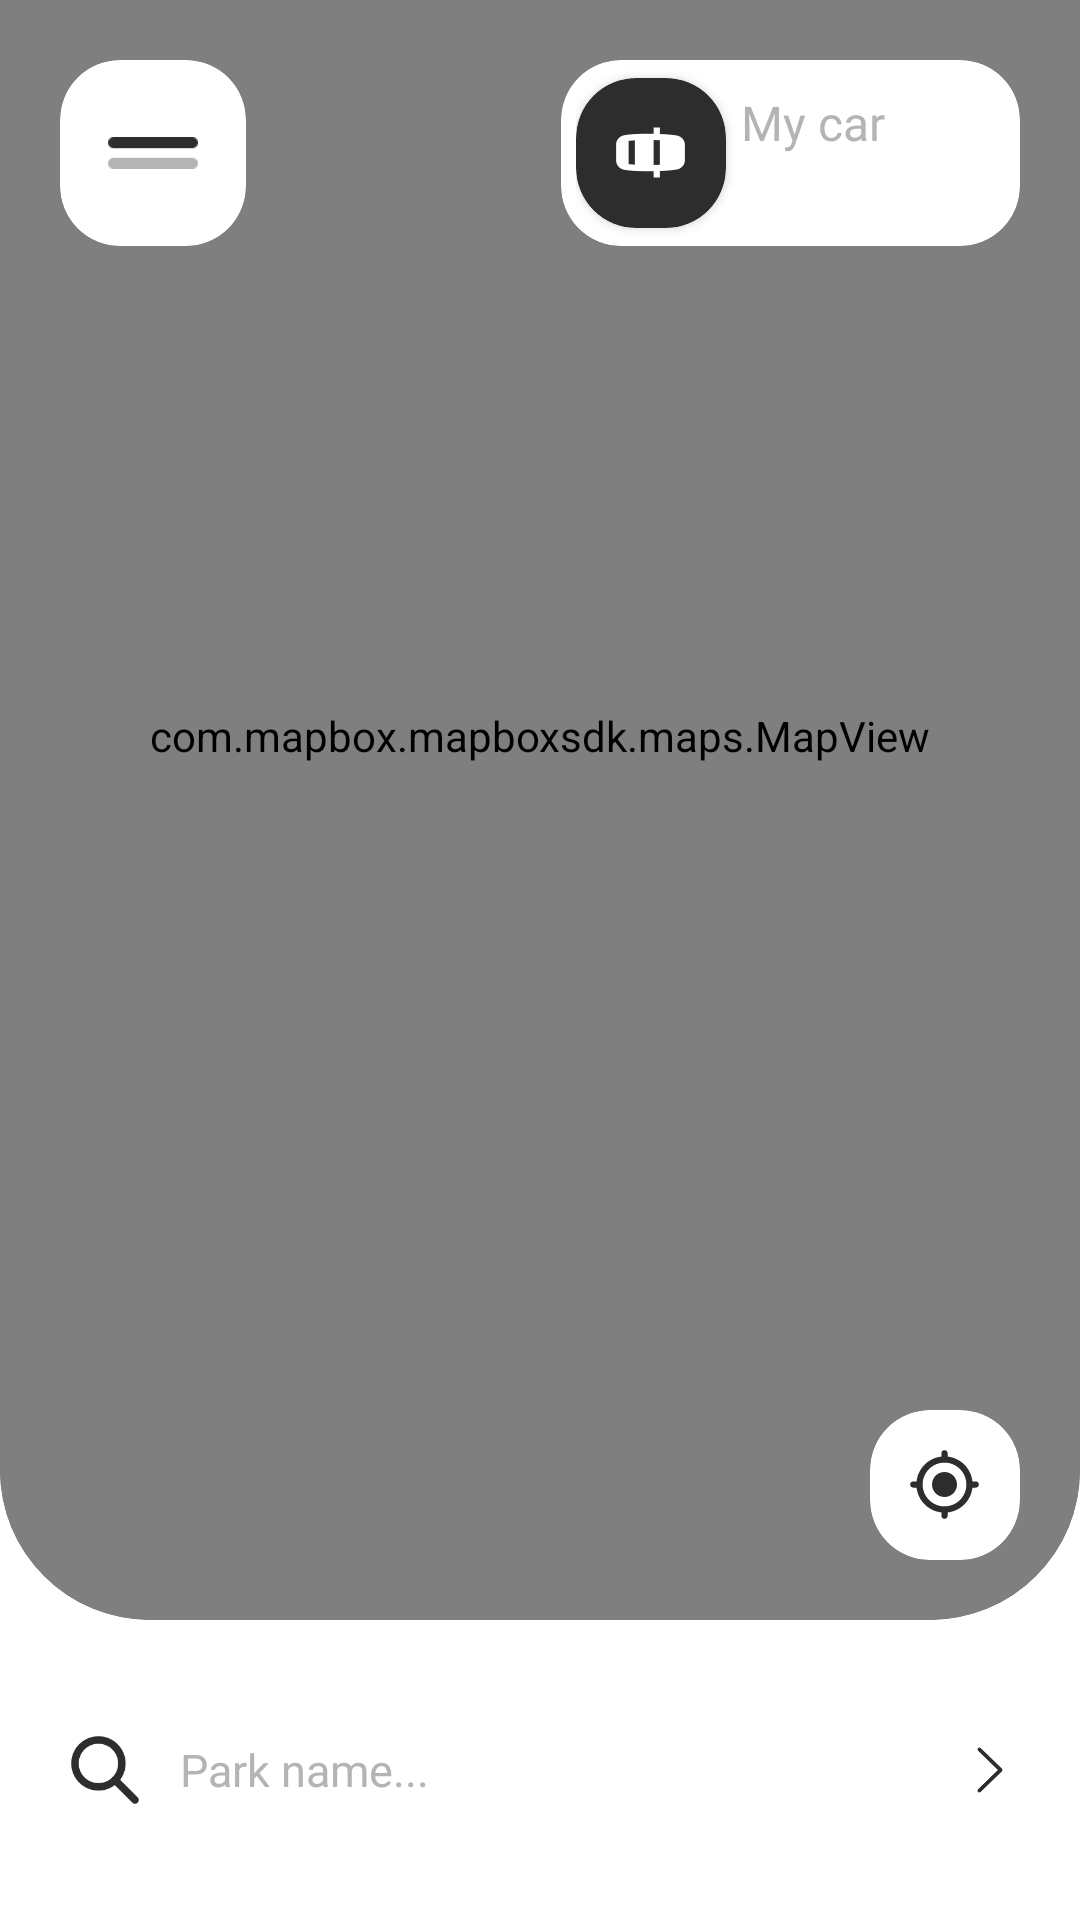

Screen size 1080 x 1920. Icon name, then its center in pixels as [x,y]:
car top view: [650,152]
location: [944,1484]
more than: [990,1770]
search: [105,1770]
